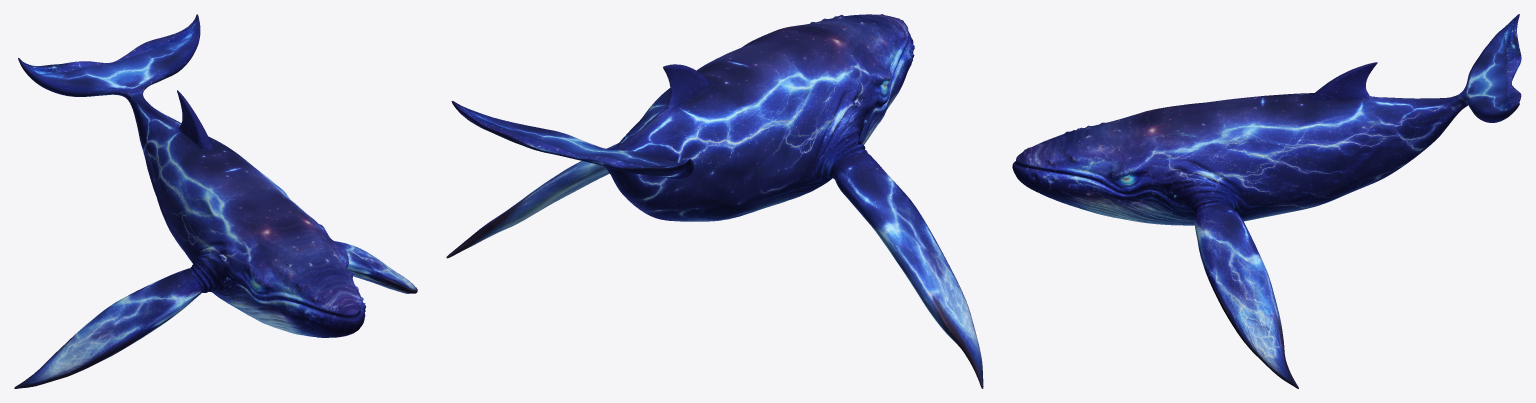
The model's file is Space Whale.glb.
3 views of the same model, side by side, from view 1: azimuth 30°, elevation 25°; view 2: azimuth 150°, elevation 25°; view 3: azimuth 270°, elevation 25° (orthographic). The views are drawn at different scales.
Parts seen in each view (by area): view 1: Mesh_0.002; view 2: Mesh_0.002; view 3: Mesh_0.002.
Part boxes in pixels (x1,y1,x2,y2): Mesh_0.002: (14, 14, 417, 388); Mesh_0.002: (446, 14, 983, 388); Mesh_0.002: (1012, 14, 1521, 388).
Bounding box in the file's own units: 0.2254 × 0.12 × 0.2408.
1 material, 1 textured.
